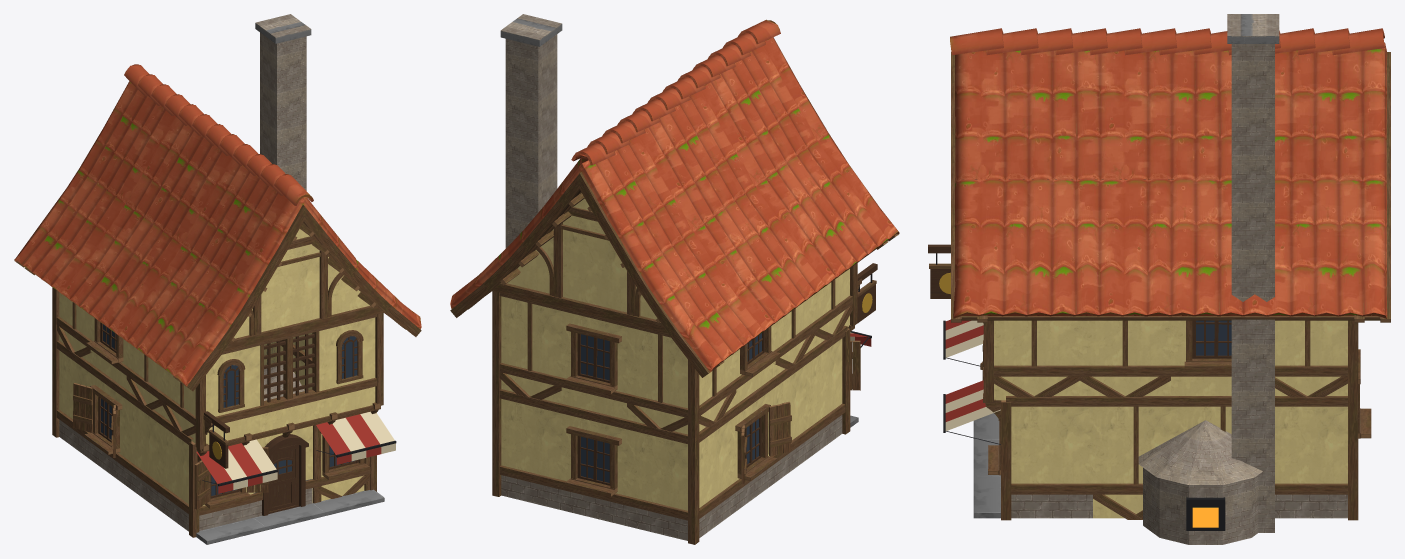
File: bakery.glb
The picture shows the model from 3 angles, left to right: view 1: azimuth 30°, elevation 25°; view 2: azimuth 150°, elevation 25°; view 3: azimuth 270°, elevation 25°; orthographic projection. The views are drawn at different scales.
Visible parts, largest first — view 1: Roof_RoundTiles_6x8.059, Roof_Front_Brick6.060, Stack.066, Wall_Plaster_WoodGrid+upper.038, Wall_Plaster_Window_Thin_Round+upper.039, Wall_Plaster_Straight_Base.017, Wall_Plaster_Window_Thin_Round+upper.036, Wall_Plaster_Straight_Base.018, Wall_Plaster_Straight_Base.013, Wall_Plaster_Window_Wide_Flat2.007, Wall_Plaster_Straight+upper.048, Door_1_Round.006 (+28 smaller); view 2: Roof_RoundTiles_6x8.059, Roof_Front_Brick6.061, Stack.066, Wall_Plaster_Straight_Base.009, Wall_Plaster_Straight_Base.012, Wall_Plaster_Straight+upper.041, Wall_Plaster_Straight+upper.044, Wall_Plaster_Window_Wide_Flat.010, Wall_Plaster_Straight_Base.018, Wall_Plaster_Straight_Base.013, Wall_Plaster_Window_Wide_Flat+upper.042, Window_Wide_Flat1.011 (+17 smaller); view 3: Roof_RoundTiles_6x8.059, Stack.066, Wall_Plaster_Straight_Base.019, Wall_Plaster_Straight_Base.022, Wall_Plaster_Straight.020, Wall_Plaster_Straight+upper.051, Wall_Plaster_Straight+upper.050, Oven.062, Wall_Plaster_Straight+upper.054, OvenDome.063, Window_Wide_Flat1.053, Wall_Plaster_Window_Wide_Flat+upper.052 (+15 smaller).
Part boxes in pixels (left/top/right/bottom): Roof_RoundTiles_6x8.059: left=14, top=64, right=421, bottom=391; Roof_Front_Brick6.060: left=224, top=224, right=383, bottom=351; Stack.066: left=260, top=32, right=306, bottom=363; Wall_Plaster_WoodGrid+upper.038: left=260, top=328, right=320, bottom=432; Wall_Plaster_Window_Thin_Round+upper.039: left=319, top=314, right=376, bottom=417; Wall_Plaster_Straight_Base.017: left=123, top=389, right=159, bottom=510; Wall_Plaster_Window_Thin_Round+upper.036: left=206, top=342, right=261, bottom=444; Wall_Plaster_Straight_Base.018: left=157, top=414, right=193, bottom=531; Wall_Plaster_Straight_Base.013: left=56, top=340, right=91, bottom=460; Wall_Plaster_Window_Wide_Flat2.007: left=312, top=425, right=370, bottom=503; Wall_Plaster_Straight+upper.048: left=126, top=343, right=164, bottom=417; Door_1_Round.006: left=268, top=444, right=298, bottom=513; Roof_RoundTiles_6x8.059: left=450, top=19, right=899, bottom=377; Roof_Front_Brick6.061: left=492, top=193, right=668, bottom=333; Stack.066: left=505, top=34, right=557, bottom=248; Wall_Plaster_Straight_Base.009: left=499, top=389, right=563, bottom=510; Wall_Plaster_Straight_Base.012: left=626, top=420, right=687, bottom=540; Wall_Plaster_Straight+upper.041: left=499, top=293, right=563, bottom=403; Wall_Plaster_Straight+upper.044: left=626, top=324, right=687, bottom=434; Wall_Plaster_Window_Wide_Flat.010: left=561, top=404, right=628, bottom=526; Wall_Plaster_Straight_Base.018: left=807, top=325, right=847, bottom=459; Wall_Plaster_Straight_Base.013: left=699, top=408, right=734, bottom=537; Wall_Plaster_Window_Wide_Flat+upper.042: left=561, top=308, right=628, bottom=419; Window_Wide_Flat1.011: left=565, top=426, right=621, bottom=496; Roof_RoundTiles_6x8.059: left=950, top=28, right=1390, bottom=322; Stack.066: left=1231, top=44, right=1274, bottom=532; Wall_Plaster_Straight_Base.019: left=1006, top=396, right=1092, bottom=518; Wall_Plaster_Straight_Base.022: left=1275, top=396, right=1347, bottom=518; Wall_Plaster_Straight.020: left=1093, top=396, right=1179, bottom=519; Wall_Plaster_Straight+upper.051: left=1080, top=320, right=1170, bottom=397; Wall_Plaster_Straight+upper.050: left=994, top=320, right=1079, bottom=400; Oven.062: left=1143, top=468, right=1258, bottom=544; Wall_Plaster_Straight+upper.054: left=1275, top=320, right=1347, bottom=397; OvenDome.063: left=1138, top=420, right=1262, bottom=484; Window_Wide_Flat1.053: left=1184, top=320, right=1231, bottom=370; Wall_Plaster_Window_Wide_Flat+upper.052: left=1171, top=320, right=1231, bottom=395.
Size of the model in its own units: 8.69 by 12.71 by 10.67.
Materials: 11 (5 with a texture image).
